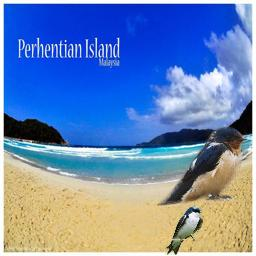Swallow: (157, 126, 249, 207), (165, 206, 203, 255)
